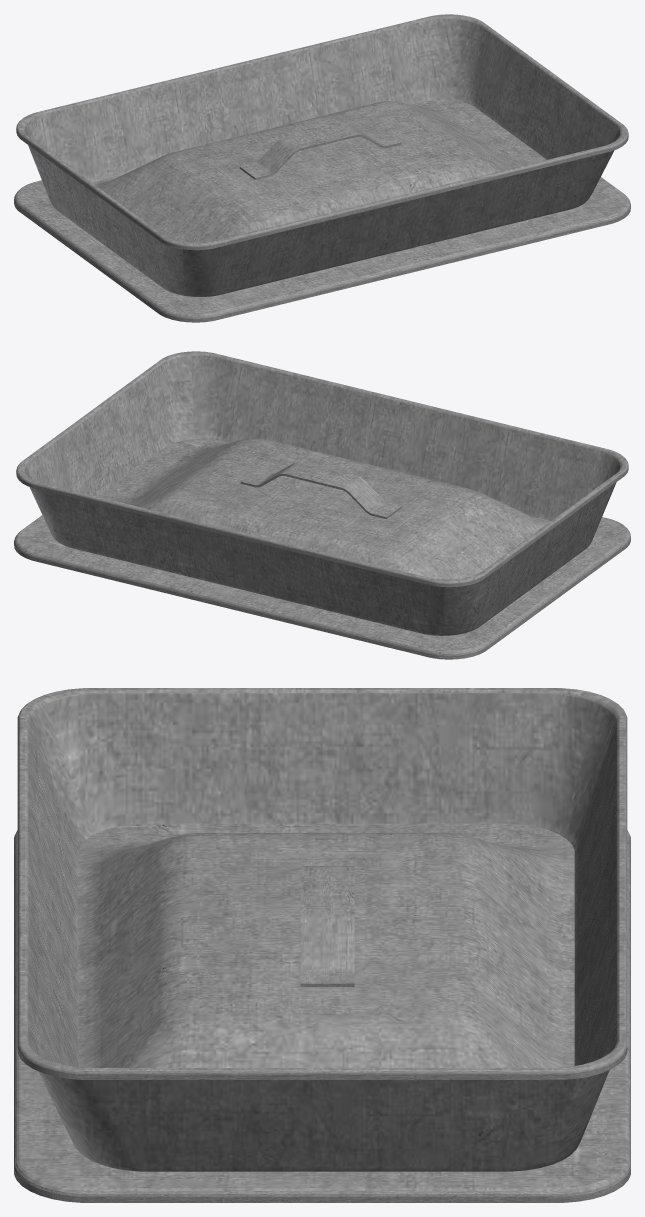
Rendered from wadah.fbx.
3 views of the same model, one above another, from view 1: azimuth 30°, elevation 25°; view 2: azimuth 150°, elevation 25°; view 3: azimuth 270°, elevation 25° (orthographic). The views are drawn at different scales.
Visible parts, largest first — view 1: wadah:Layer1, wadah:Layer2; view 2: wadah:Layer1, wadah:Layer2; view 3: wadah:Layer1, wadah:Layer2.
Part boxes in pixels (x1,y1,x2,y2): wadah:Layer1: [16, 14, 628, 296]; wadah:Layer2: [14, 100, 630, 322]; wadah:Layer1: [16, 351, 628, 635]; wadah:Layer2: [14, 438, 630, 659]; wadah:Layer1: [17, 688, 627, 1171]; wadah:Layer2: [14, 823, 630, 1202].
Size of the model in its own units: 47.59 by 8.2 by 32.05.
1 material, 1 textured.
